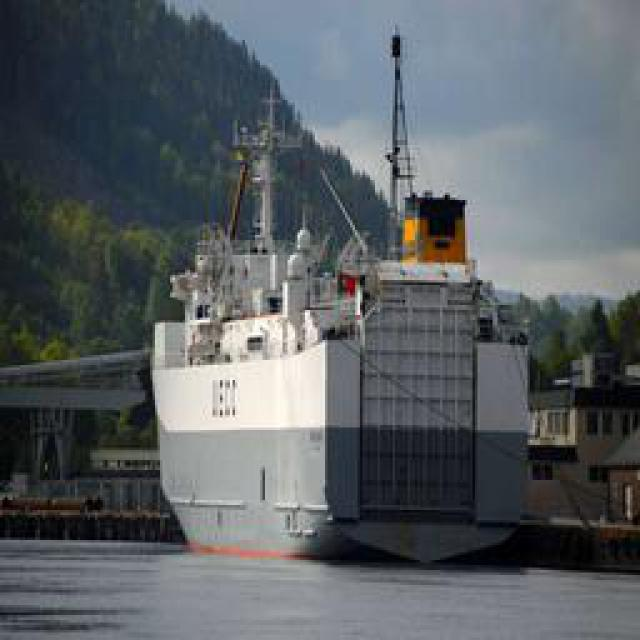Ship: (150, 23, 553, 558)
